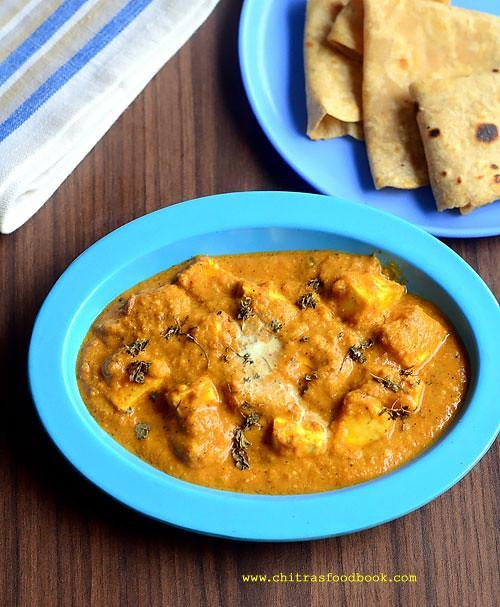paneer: (159, 303, 429, 464)
roti: (289, 7, 500, 203)
